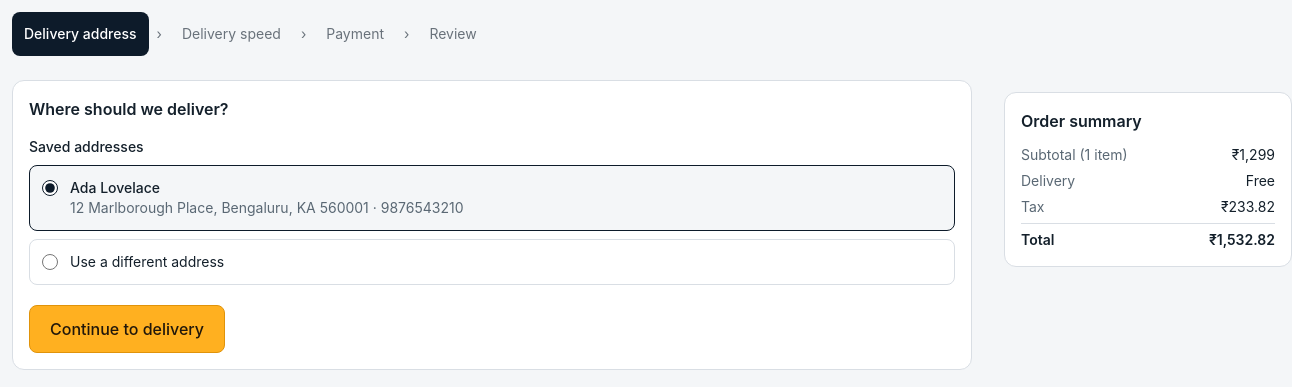
Test: CheckoutFlow › moving through the steps › lets a completed step be revisited
What coordinates should you click on to do the following:
click the button "Continue to delivery"
I would click on:
 (127, 329)
Its box is [29,305,225,353].
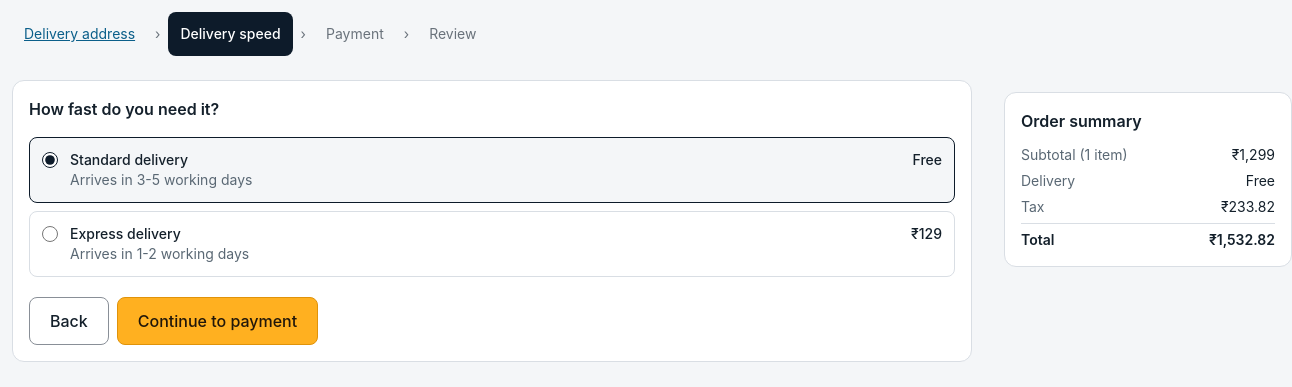
What coordinates should you click on to do the following:
click the button "Delivery address"
I would click on:
 (80, 34)
Its box is [12,12,147,56].
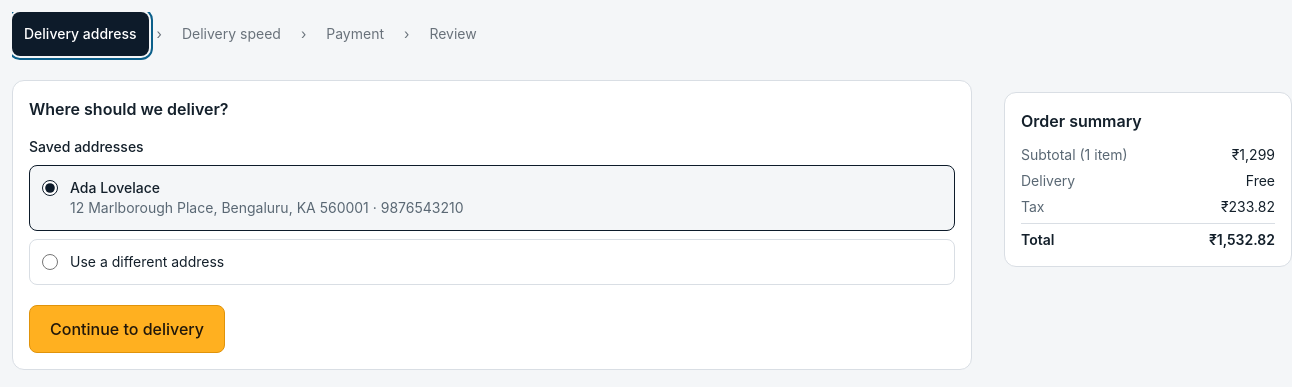
Check: the heading "Where should we deliver?" is shown, box [29,99,228,119]
